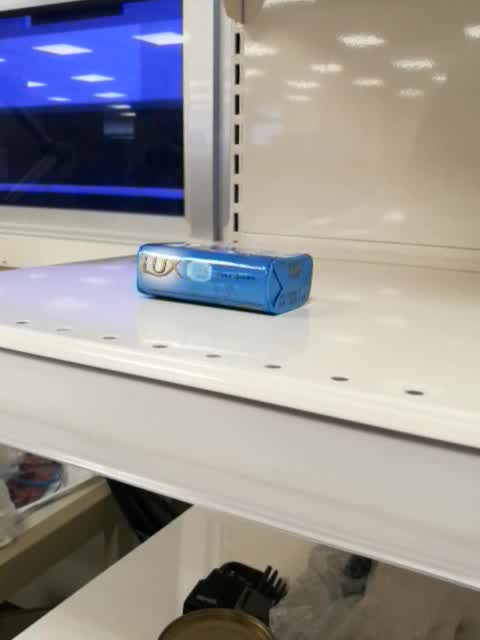soap: (134, 241, 314, 316)
